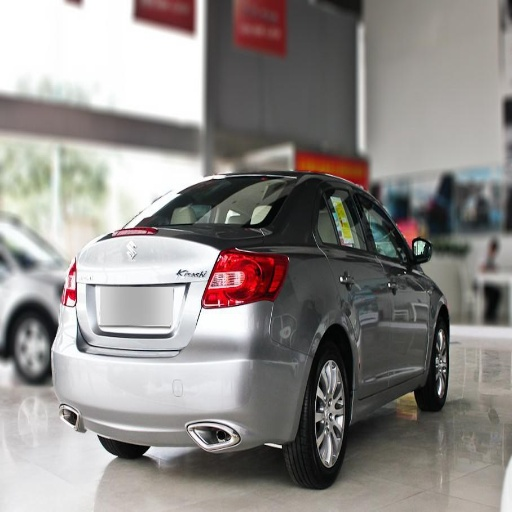back_bumper: (53, 301, 313, 454)
back_right_door: (316, 183, 387, 388)
tailgate: (78, 233, 218, 349)
